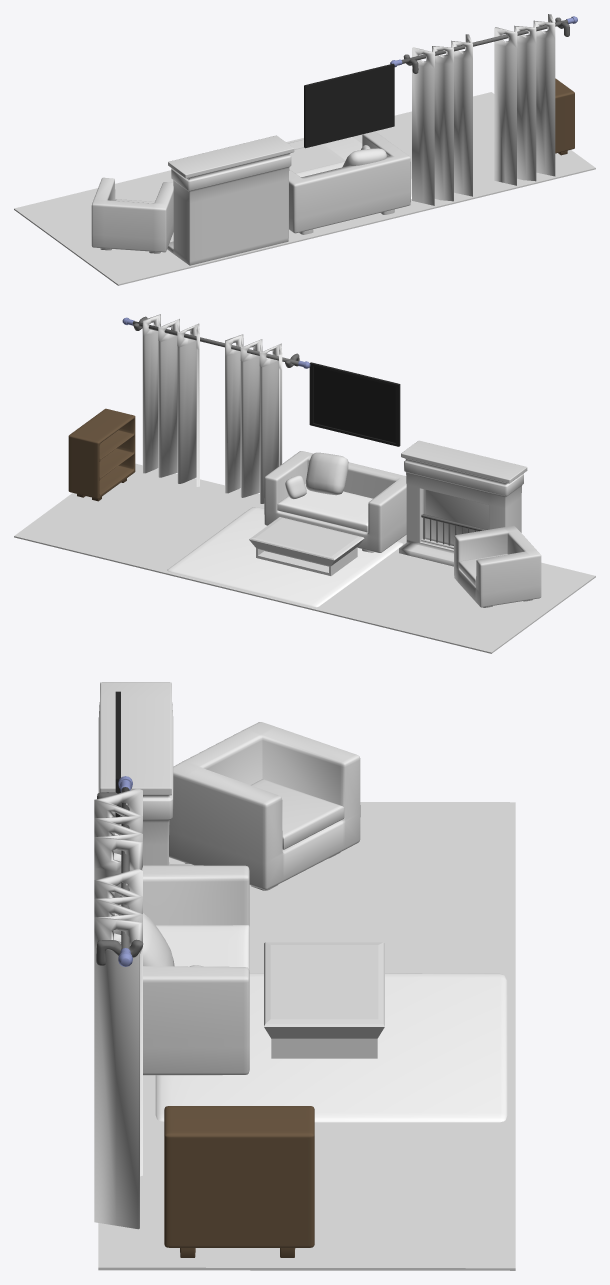
Rendered from Living room.fbx.
3 renders of one model, top to bottom at view 1: azimuth 30°, elevation 25°; view 2: azimuth 150°, elevation 25°; view 3: azimuth 270°, elevation 25°, orthographic. The views are drawn at different scales.
Visible parts, largest first — view 1: zasłony salon, walls.005, kominek, Couch, tv, fotel.005, szafka, stoliczek, dywan salon, fotel.004; view 2: walls.005, zasłony salon, kominek, Couch, dywan salon, fotel.005, tv, szafka, stoliczek, fotel.004; view 3: walls.005, dywan salon, fotel.005, szafka, Couch, zasłony salon, stoliczek, kominek, fotel.004.
Boxes of the visible parts, x1,y1,x2,y2 form: zasłony salon: (390,14,577,205); walls.005: (14,92,595,285); kominek: (167,135,294,265); Couch: (289,131,410,234); tv: (304,63,394,148); fotel.005: (91,177,173,253); szafka: (555,78,574,155); stoliczek: (289,144,345,173); dywan salon: (288,136,411,198); fotel.004: (342,148,386,167); walls.005: (14,463,595,653); zasłony salon: (122,314,310,503); kominek: (399,440,527,566); Couch: (264,451,406,552); dywan salon: (167,507,402,607); fotel.005: (454,525,541,607); tv: (309,362,400,446); szafka: (68,408,135,501); stoliczek: (249,517,364,575); fotel.004: (306,452,348,495); walls.005: (98,802,515,1270); dywan salon: (155,973,507,1122); fotel.005: (169,722,360,890); szafka: (164,1106,314,1257); Couch: (143,865,249,1075); zasłony salon: (94,776,143,1229); stoliczek: (264,942,384,1058); kominek: (98,682,193,865); fotel.004: (143,913,174,966).
Bounding box in the file's own units: 7.07 × 2.25 × 2.7.
